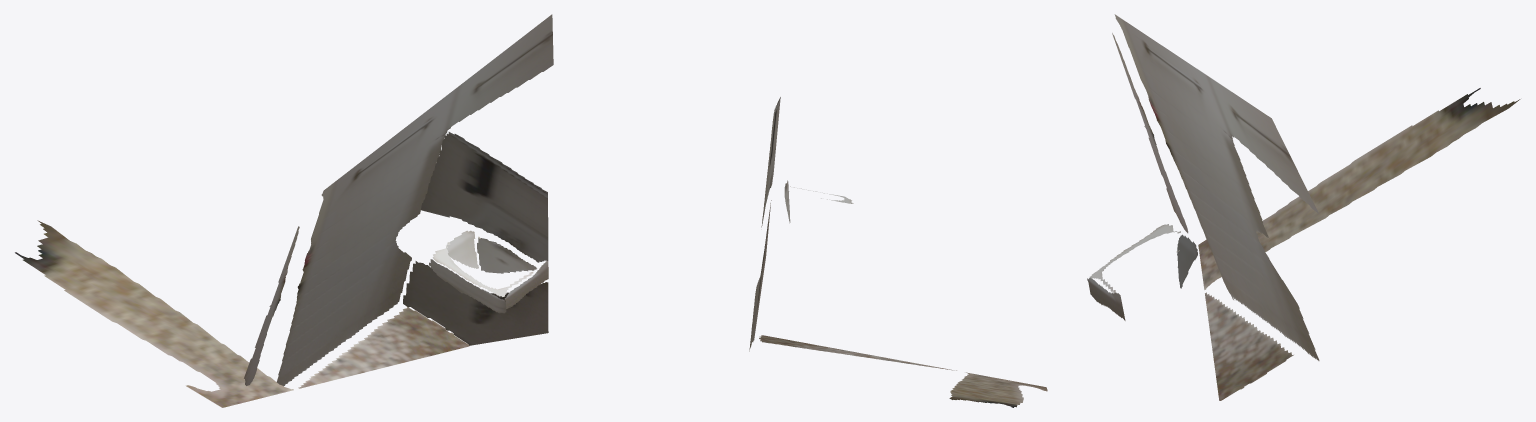
File: 532_d2_depth_predplane_pred_model.glb
3 views of the same model, side by side, from view 1: azimuth 30°, elevation 25°; view 2: azimuth 150°, elevation 25°; view 3: azimuth 270°, elevation 25° (orthographic). The views are drawn at different scales.
Size of the model in its own units: 3.13 by 1.88 by 2.17.
